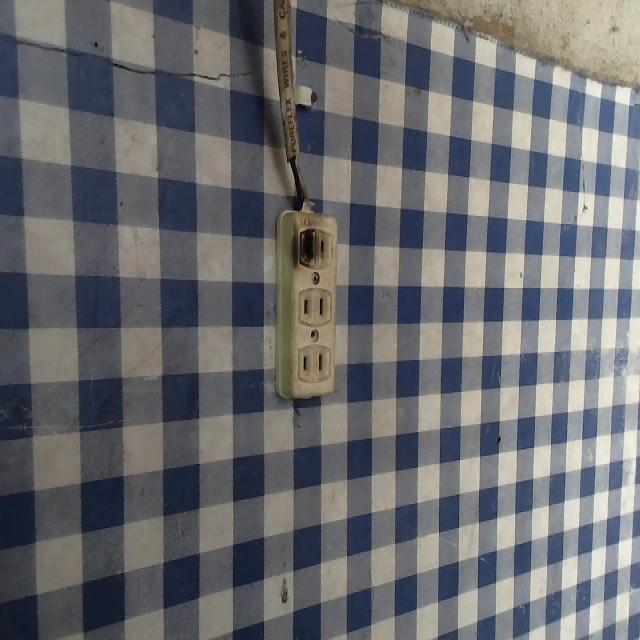-: (290, 224, 319, 269)
